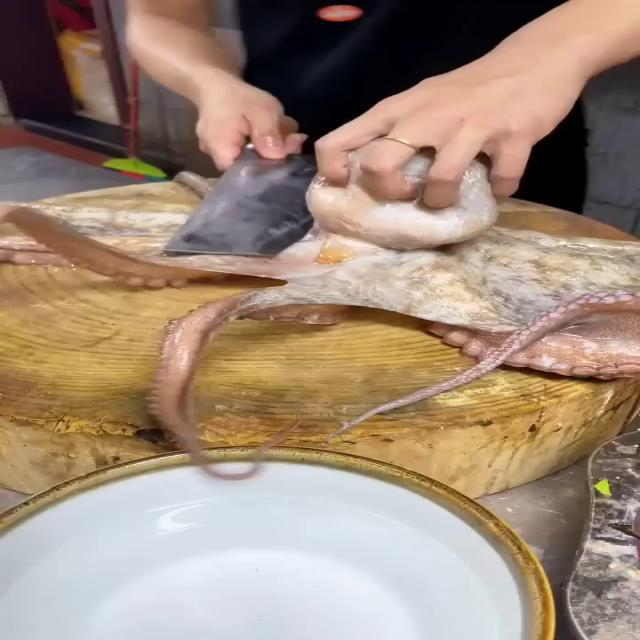octopus: (0, 138, 640, 473)
